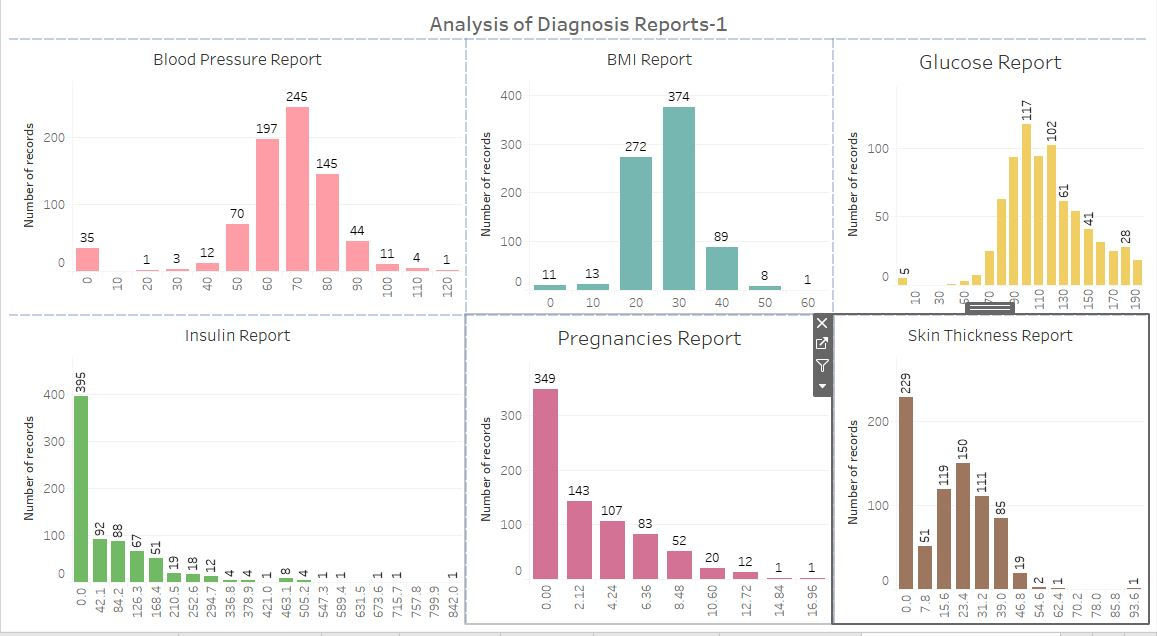

The dashboard page shown, as its layout file describes it:
{"tool":"tableau","page":{"name":"Analysis of Diagnosis Reports-1","canvas":[1000,1000],"units":"permille","ordinal":0},"visuals":[{"type":"worksheet","box":[0,0,1000,1000]},{"type":"worksheet","box":[6.9,12.7,986.1,50.6]},{"type":"worksheet","title":"Blood Pressure Report","mark":"Automatic","rows":["Calculation_584060595161591811"],"cols":["Blood Pressure (bin)"],"box":[6.9,63.3,395.7,436.7]},{"type":"worksheet","title":"BMI Report","mark":"Automatic","rows":["Calculation_584060595161591811"],"cols":["BMI (bin)"],"box":[402.6,63.3,317.8,436.7]},{"type":"worksheet","title":"Glucose Report","mark":"Automatic","rows":["Calculation_584060595161591811"],"cols":["Glucose (bin)"],"box":[720.4,63.3,272.7,436.7]},{"type":"worksheet","title":"Insulin Report","mark":"Automatic","rows":["Calculation_584060595161591811"],"cols":["Insulin (bin)"],"box":[6.9,500,395.7,487.3]},{"type":"worksheet","title":"Pregnancies Report","mark":"Automatic","rows":["Calculation_584060595161591811"],"cols":["Pregnancies (bin)"],"box":[402.6,500,317.8,487.3]},{"type":"worksheet","title":"Skin Thickness Report","mark":"Automatic","rows":["Calculation_584060595161591811"],"cols":["Skin Thickness (bin)"],"box":[720.4,500,272.7,487.3]}]}

Visuals, with their boxes on the dashboard's canvas, which has no fixed pixel size, in thousandths of its width and height (x1, y1, x2, y2). These are canvas units, not pixel positions in the 1157x636 screenshot, which may show the page scaled, cropped or inside an application window:
worksheet: (x1=0, y1=0, x2=1000, y2=1000)
worksheet: (x1=7, y1=13, x2=993, y2=63)
"Blood Pressure Report" worksheet: (x1=7, y1=63, x2=403, y2=500)
"BMI Report" worksheet: (x1=403, y1=63, x2=720, y2=500)
"Glucose Report" worksheet: (x1=720, y1=63, x2=993, y2=500)
"Insulin Report" worksheet: (x1=7, y1=500, x2=403, y2=987)
"Pregnancies Report" worksheet: (x1=403, y1=500, x2=720, y2=987)
"Skin Thickness Report" worksheet: (x1=720, y1=500, x2=993, y2=987)
